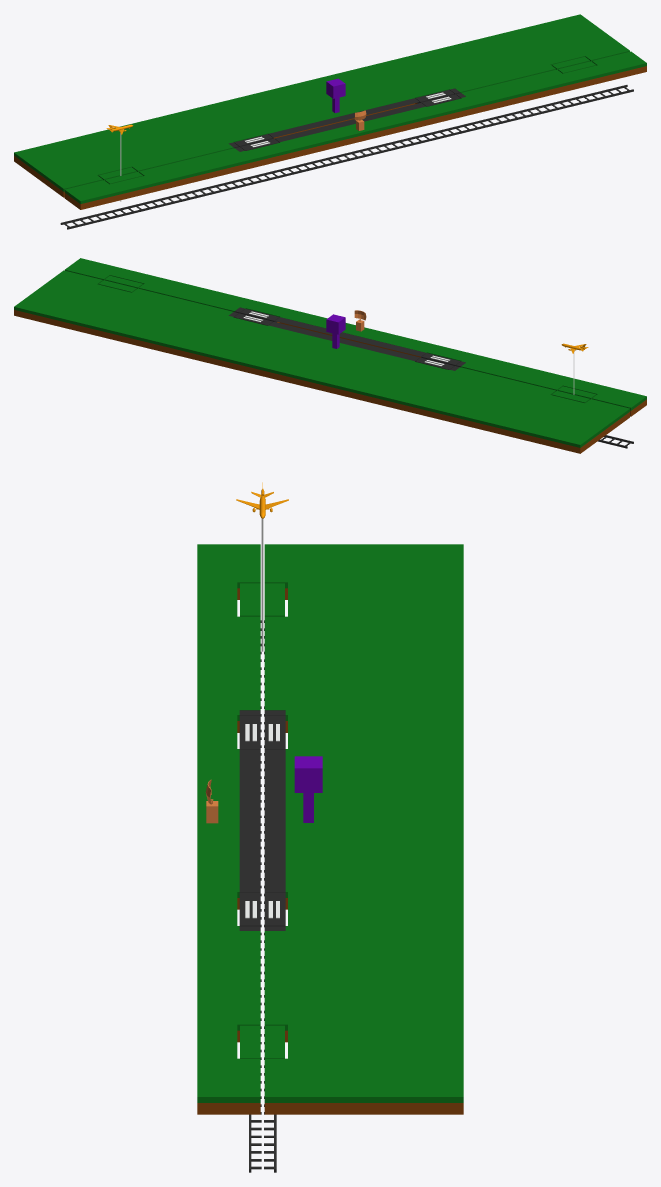
Rendered from airport_diorama.glb.
The picture shows the model from 3 angles, top to bottom: view 1: azimuth 30°, elevation 25°; view 2: azimuth 150°, elevation 25°; view 3: azimuth 270°, elevation 25°; orthographic projection. The views are drawn at different scales.
Parts seen in each view (by area): view 1: Plane, Plane.001, Plane.003, Cube, Plane.002, Cube.002; view 2: Plane.001, Plane, Cube, Cube.002; view 3: Plane.001, Plane, Cube, Cube.002, Plane.002.
Boxes of the visible parts, bbox=[...] form: Plane: bbox=[48, 39, 646, 209]; Plane.001: bbox=[14, 14, 613, 185]; Plane.003: bbox=[60, 85, 633, 229]; Cube: bbox=[229, 88, 465, 151]; Plane.002: bbox=[64, 86, 631, 228]; Cube.002: bbox=[326, 78, 345, 112]; Plane.001: bbox=[14, 282, 614, 453]; Plane: bbox=[48, 258, 646, 428]; Cube: bbox=[228, 307, 465, 370]; Cube.002: bbox=[326, 314, 345, 348]; Plane.001: bbox=[328, 544, 463, 1114]; Plane: bbox=[197, 544, 327, 1114]; Cube: bbox=[239, 710, 285, 930]; Cube.002: bbox=[294, 756, 322, 822]; Plane.002: bbox=[251, 620, 273, 1169].
Bounding box in the file's own units: 10 × 1.53 × 2.04.
